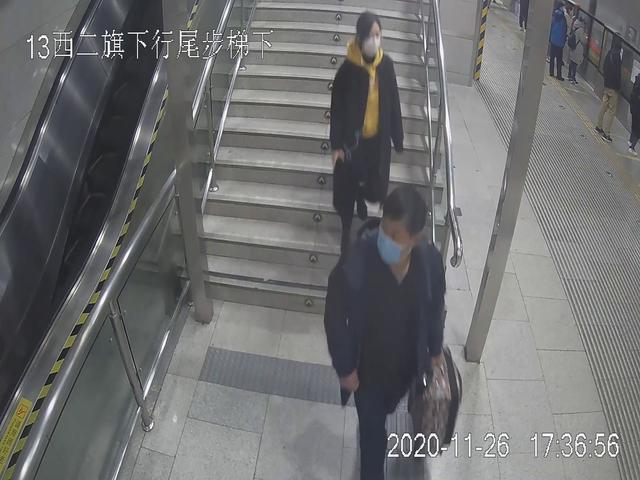person: (328, 183, 472, 480), (309, 11, 401, 237), (592, 32, 640, 146)
